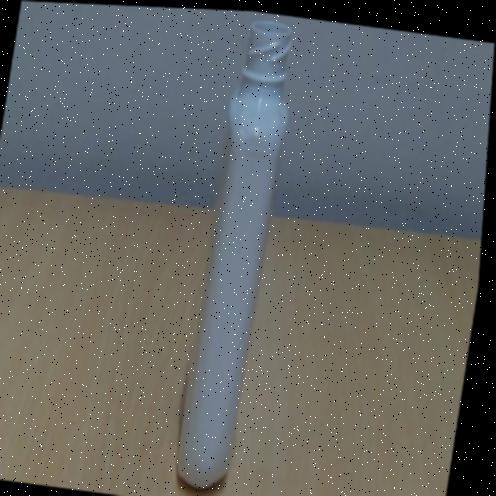bottle: (176, 20, 291, 487)
